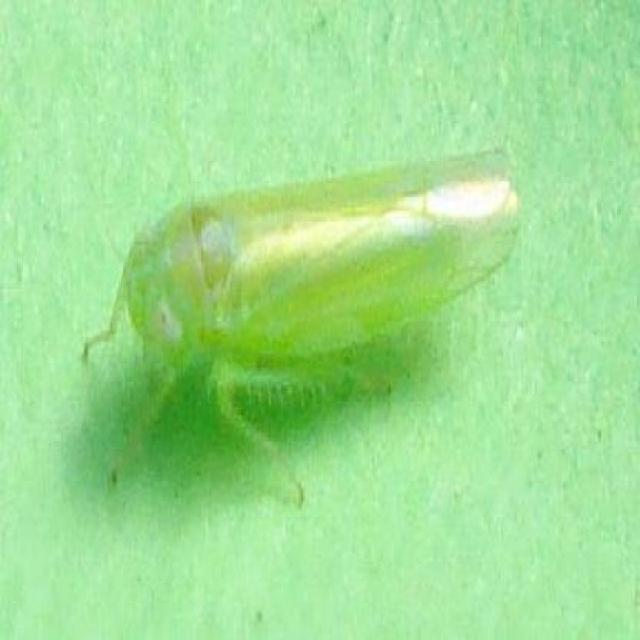green-leafhopper: (115, 145, 520, 384)
